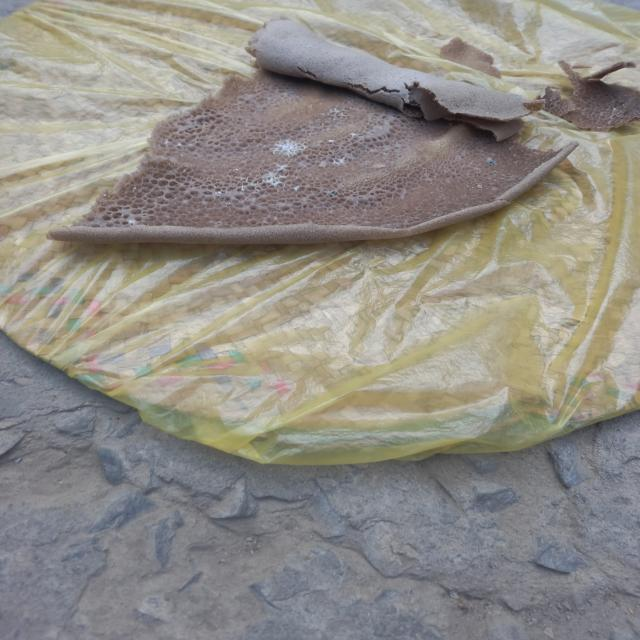injera_mold: (270, 136, 308, 159), (262, 164, 290, 188), (331, 105, 346, 122), (330, 155, 348, 169), (212, 188, 225, 198), (326, 189, 339, 197), (229, 166, 241, 174), (125, 217, 138, 224), (238, 182, 247, 192), (487, 158, 496, 168), (292, 186, 302, 192), (253, 184, 259, 194), (239, 176, 250, 181), (468, 185, 476, 191), (349, 132, 358, 137), (175, 142, 184, 147), (223, 202, 234, 206), (328, 138, 335, 144), (131, 185, 137, 192), (306, 44, 312, 50), (162, 140, 170, 144), (234, 198, 240, 203), (321, 112, 327, 117), (228, 189, 236, 192), (255, 180, 261, 184), (294, 176, 300, 179)
